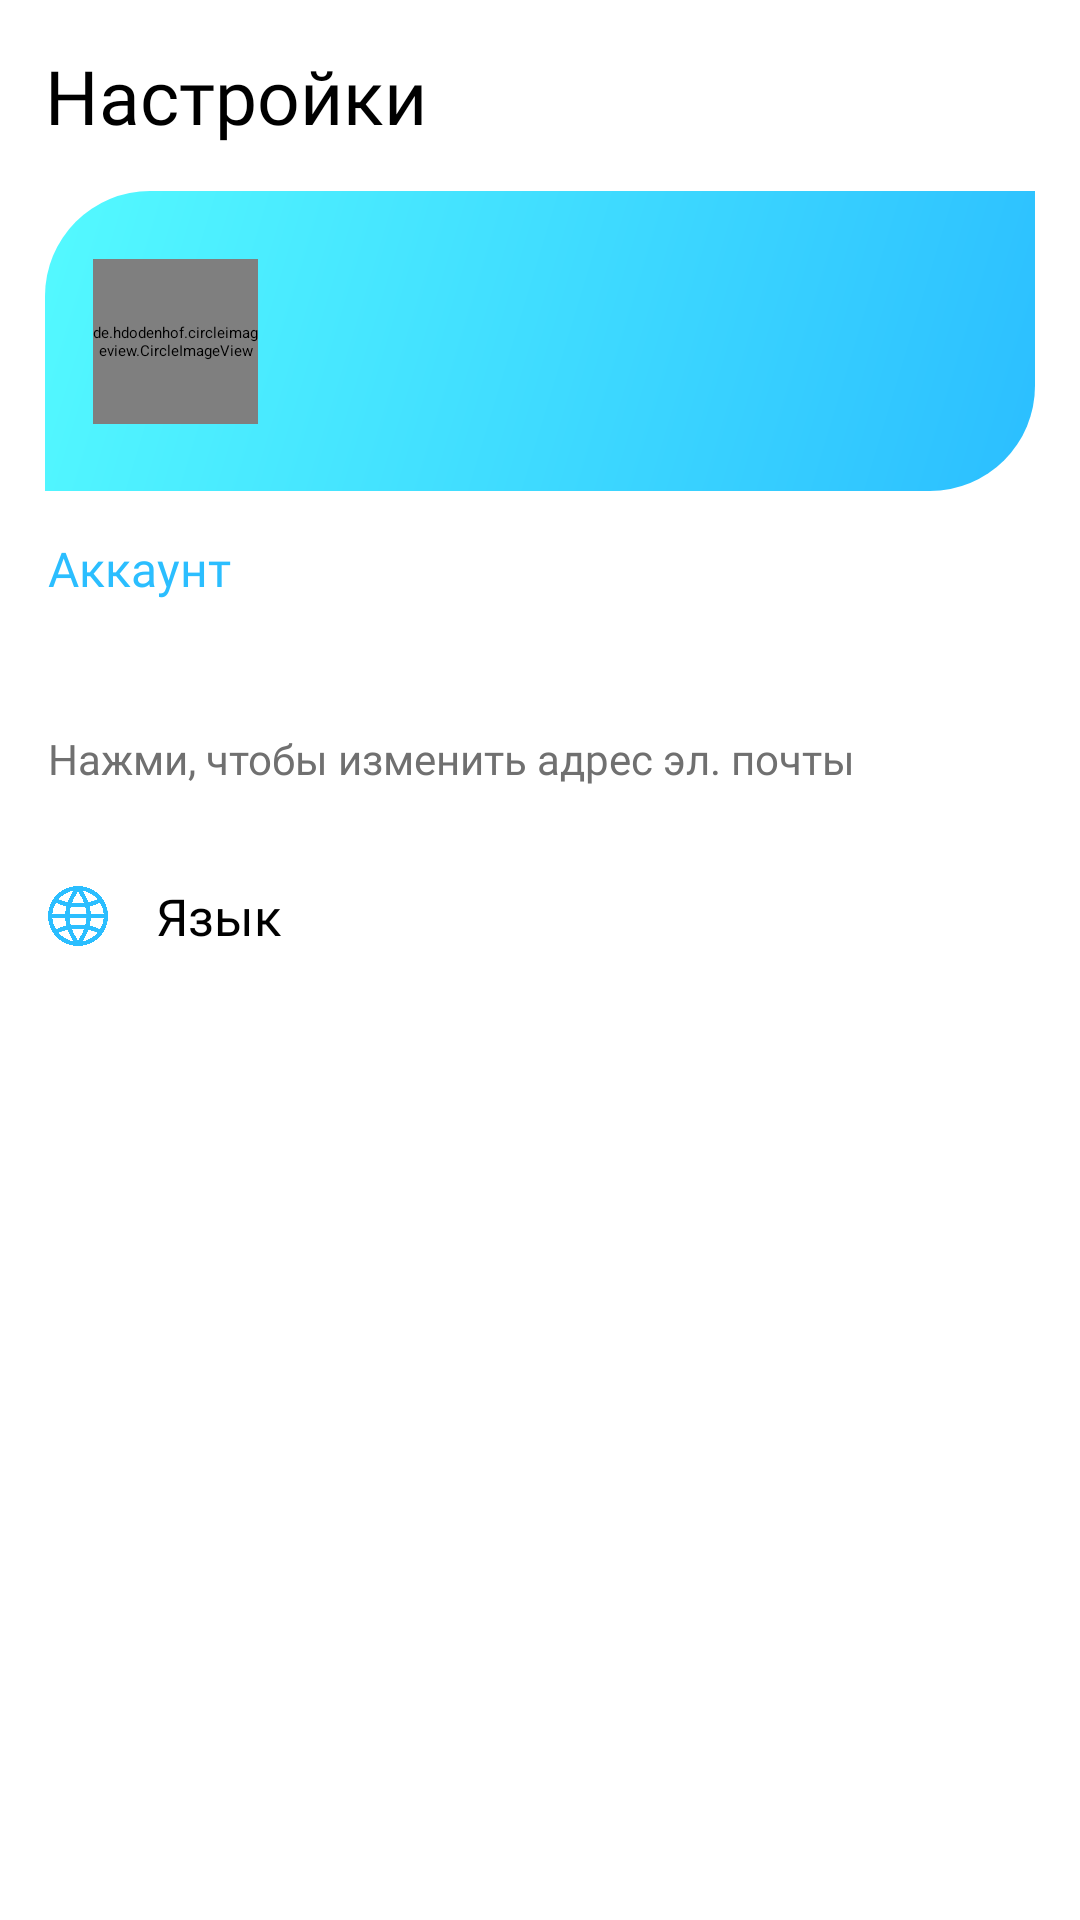

Point at icon controls on the screen. Image size 1080px×1920px, points as point (x, y).
language: point (78, 916)
